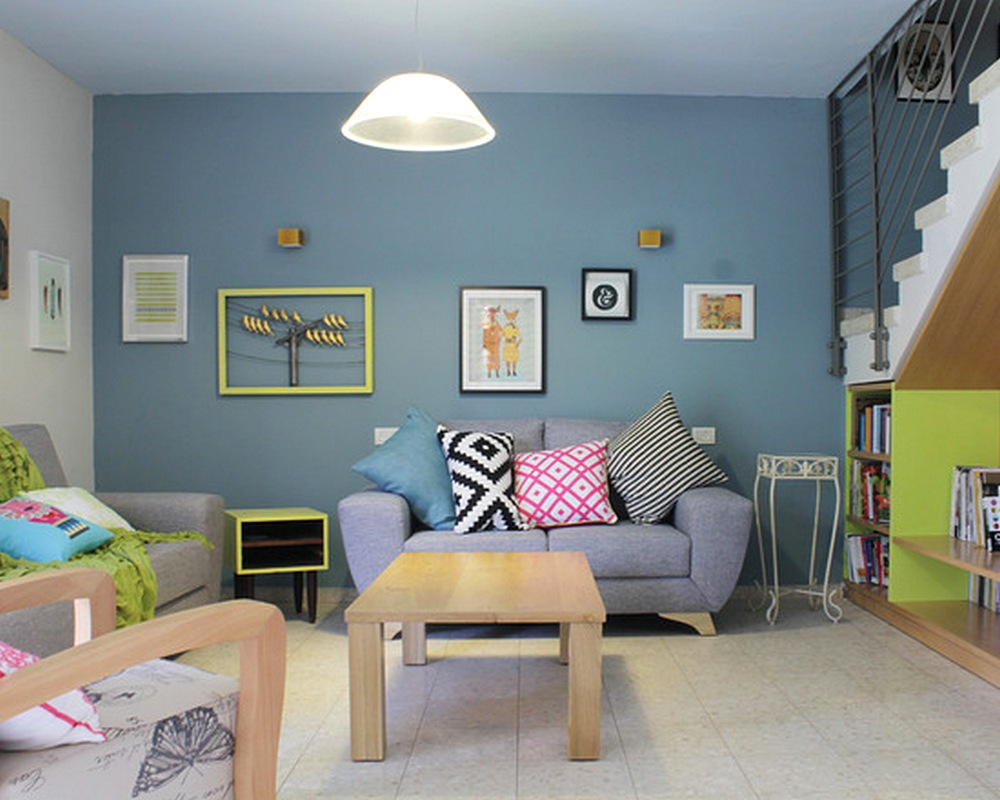bantal: (617, 404, 712, 516), (368, 414, 452, 526), (512, 448, 619, 525), (437, 425, 513, 533), (1, 495, 114, 563)
buku: (950, 460, 1000, 550), (846, 530, 891, 586), (856, 463, 891, 526), (858, 399, 893, 454)
kursi: (1, 566, 297, 799)
lampu: (337, 64, 504, 160)
lukisan: (214, 285, 379, 399), (458, 283, 550, 397), (116, 252, 193, 350), (680, 281, 762, 345), (28, 248, 75, 357), (579, 265, 641, 325)
meja: (337, 545, 618, 764)
sova: (341, 413, 755, 614), (1, 422, 230, 599)
